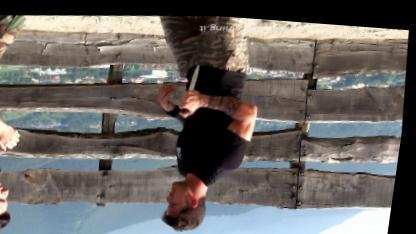knife: (176, 58, 207, 116)
